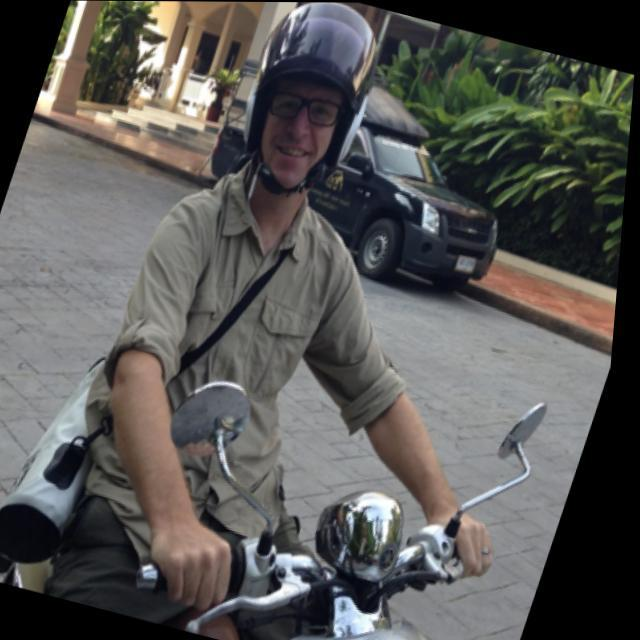Helmet: (238, 2, 380, 195)
